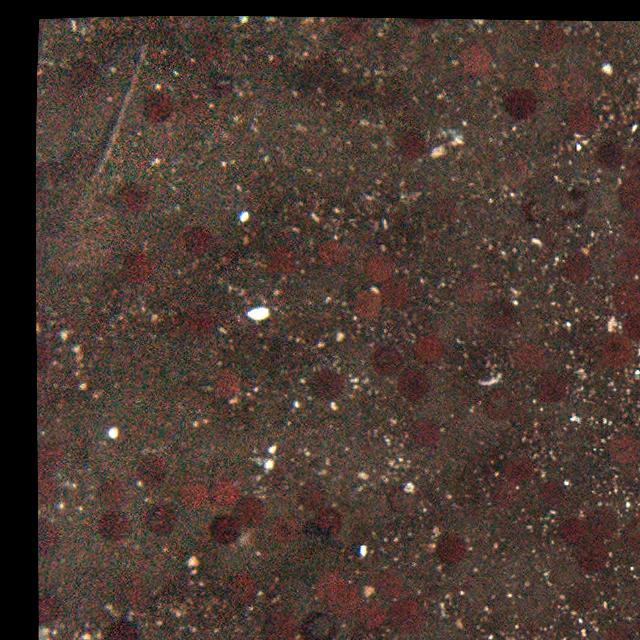skate: (39, 43, 152, 301)
